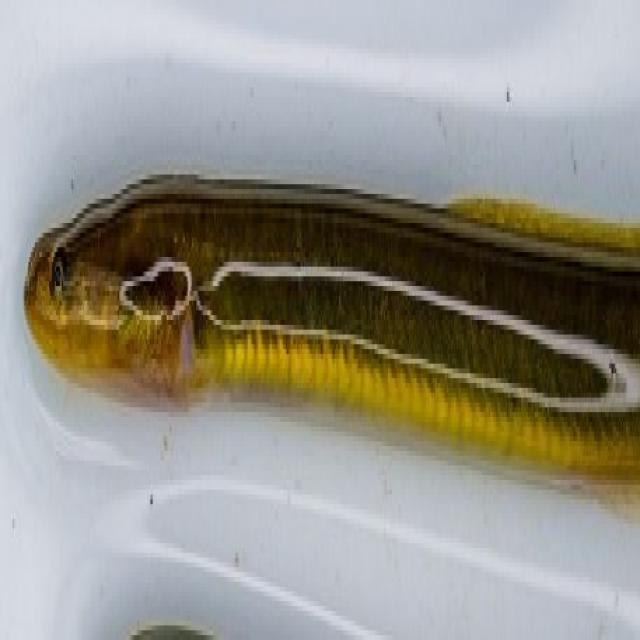Freshwater-Eel: (10, 118, 640, 547)
